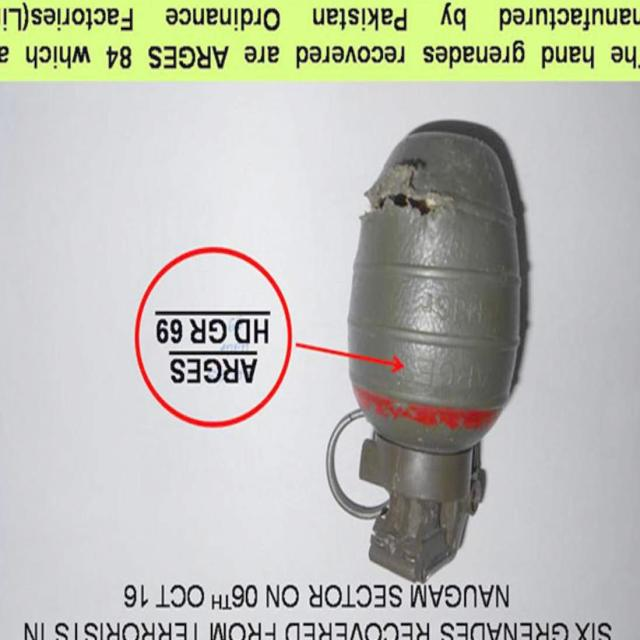grenade: (325, 131, 524, 582)
